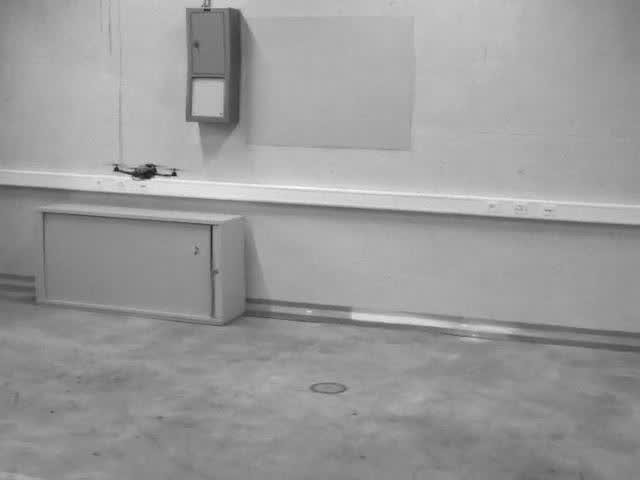drone: (105, 154, 185, 198)
